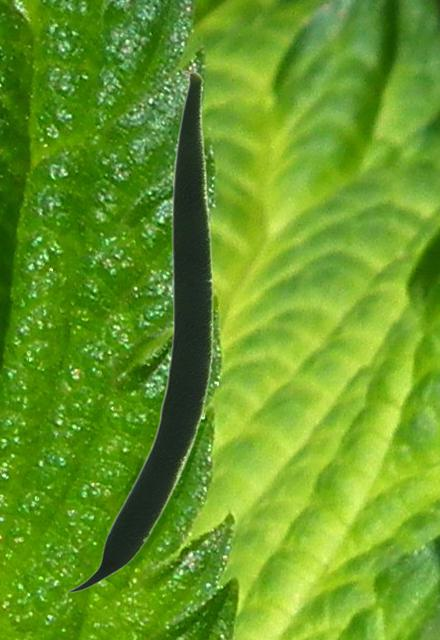french_bean: (66, 70, 212, 592)
